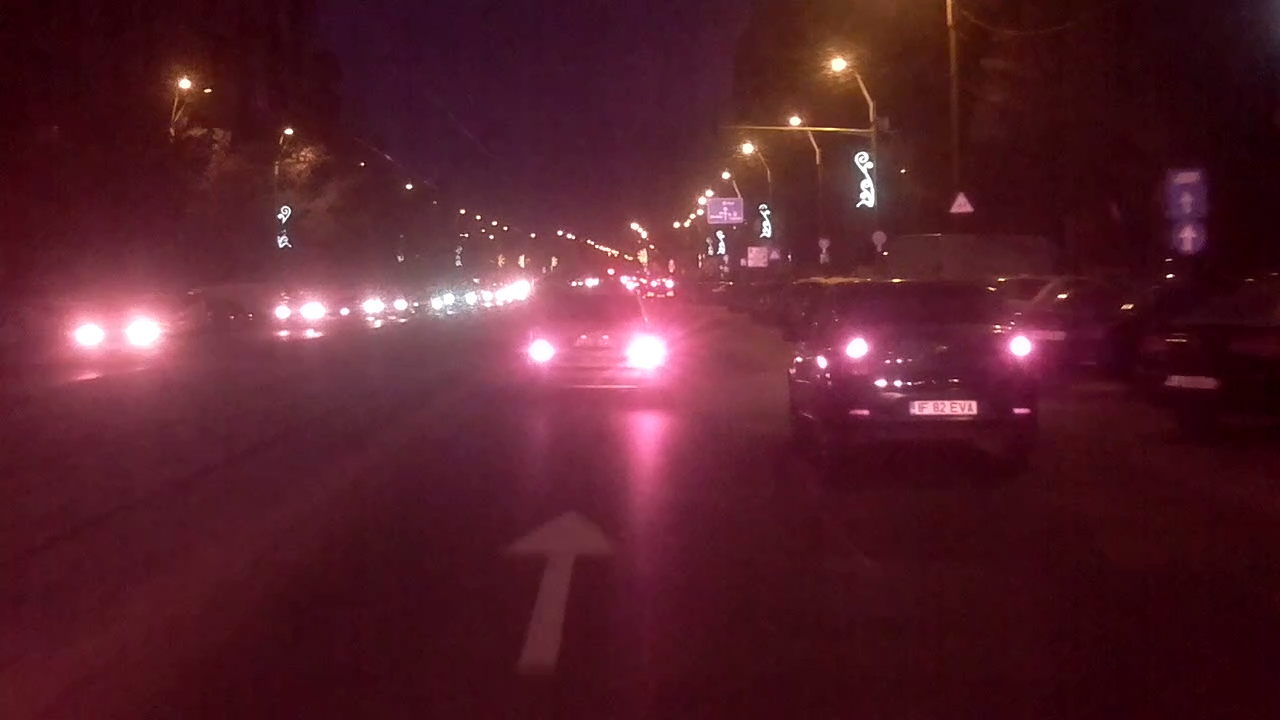license-plate: (906, 396, 981, 417)
